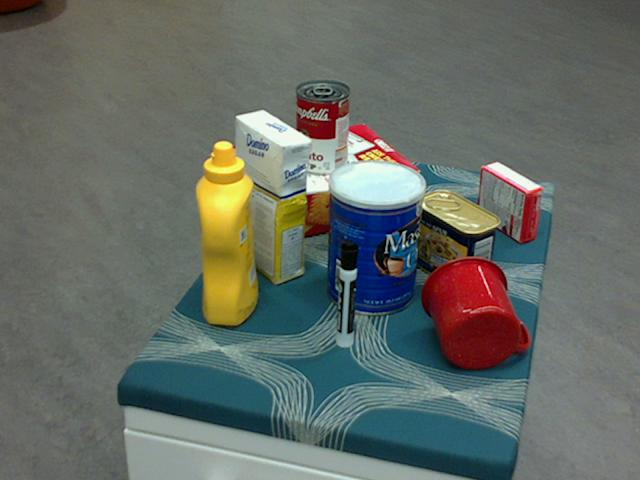cracker_box: (220, 123, 420, 247)
gelatin_box: (478, 162, 544, 243)
large_marker: (336, 240, 357, 349)
master_chef_can: (327, 159, 425, 315)
mug: (421, 255, 528, 369)
mustard_bottle: (195, 141, 258, 326)
potted_meat_can: (415, 190, 501, 291)
sugar_box: (234, 111, 309, 286)
tomato_soup_can: (295, 81, 350, 176)
tuna_fish_can: (343, 166, 415, 237)
